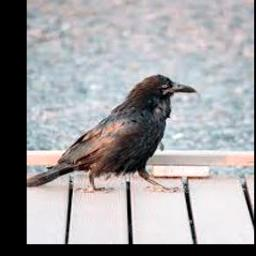Crow: (27, 74, 197, 193)
